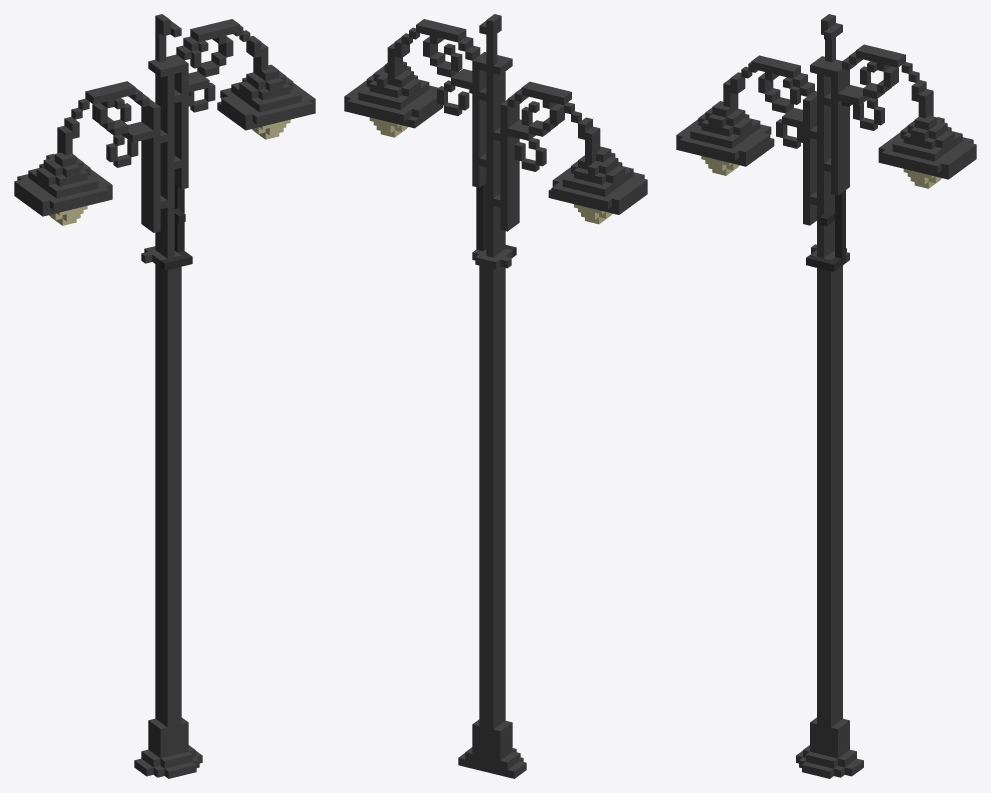
Rendered from drzewko-26.obj.
The picture shows the model from 3 angles, left to right: view 1: azimuth 30°, elevation 25°; view 2: azimuth 150°, elevation 25°; view 3: azimuth 330°, elevation 25°; orthographic projection.
Bounding box in the file's own units: 3.9 × 10.2 × 0.9.
Materials: 1 (1 with a texture image).
